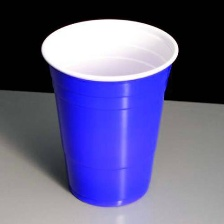glass: (37, 16, 185, 213)
